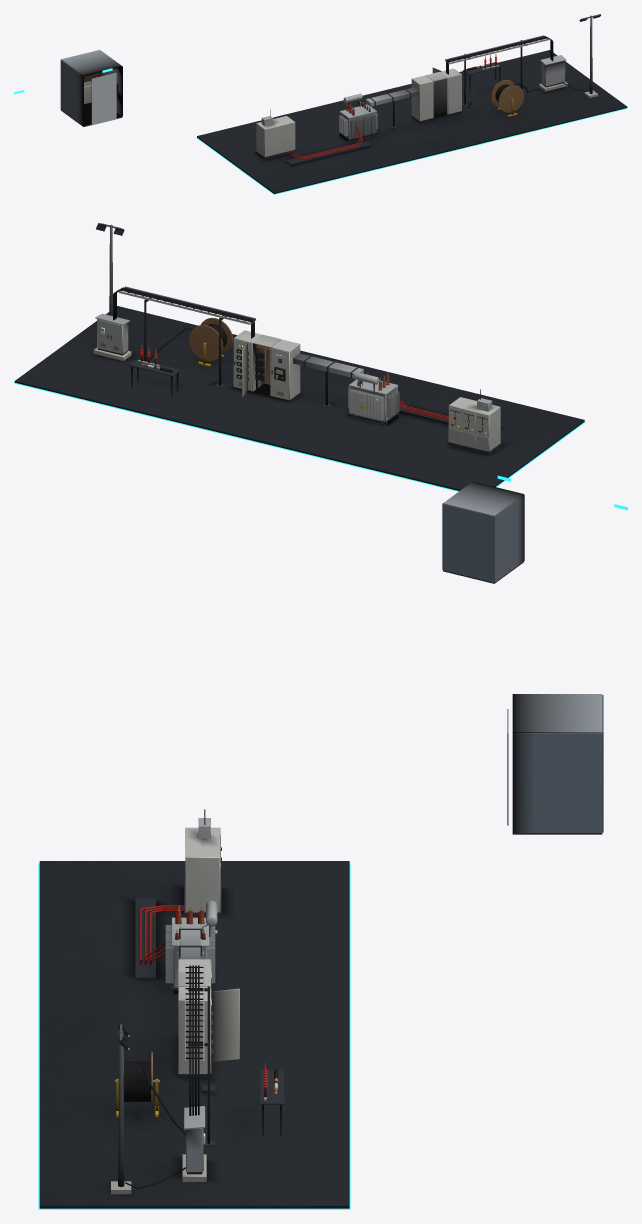
The model's file is ex_electrical.glb.
The picture shows the model from 3 angles, top to bottom: view 1: azimuth 30°, elevation 25°; view 2: azimuth 150°, elevation 25°; view 3: azimuth 270°, elevation 25°; orthographic projection. The views are drawn at different scales.
Visible parts, largest first — view 1: static.plinth, static.paint_ral, static.paint_grey, lift_cabin.steel, static.paint_dark, lift_cabin.white, static.wood, static.galv, static.cable_black, liftDoorL.steel, accent_strip.accent, liftDoorR.steel (+1 smaller); view 2: static.plinth, lift_cabin.steel, static.paint_ral, static.paint_grey, static.paint_dark, lift_cabin.white, static.wood, static.cable_black, static.galv, accent_strip.accent, static.plastic_dark; view 3: static.plinth, lift_cabin.steel, static.paint_ral, static.paint_grey, static.paint_dark, lift_cabin.white, static.cable_black, accent_strip.accent, static.galv, static.cable_red.
Part boxes in pixels (x1,y1,x2,y2): static.plinth: [197, 50, 627, 193]; static.paint_ral: [256, 67, 461, 156]; static.paint_grey: [261, 55, 566, 138]; lift_cabin.steel: [60, 60, 122, 125]; static.paint_dark: [255, 14, 600, 164]; lift_cabin.white: [61, 50, 122, 76]; static.wood: [491, 80, 524, 112]; static.galv: [445, 14, 599, 93]; static.cable_black: [446, 36, 589, 101]; liftDoorL.steel: [91, 76, 104, 125]; accent_strip.accent: [196, 107, 627, 194]; liftDoorR.steel: [104, 73, 116, 122]; static.plinth: [14, 306, 584, 490]; lift_cabin.steel: [442, 494, 524, 582]; static.paint_ral: [233, 330, 500, 451]; static.paint_grey: [95, 313, 492, 450]; static.paint_dark: [96, 223, 501, 455]; lift_cabin.white: [443, 481, 523, 516]; static.wood: [189, 317, 232, 361]; static.cable_black: [113, 287, 257, 388]; static.galv: [100, 223, 256, 366]; accent_strip.accent: [14, 382, 585, 491]; static.plastic_dark: [107, 334, 487, 432]; static.plinth: [39, 861, 349, 1208]; lift_cabin.steel: [512, 695, 603, 832]; static.paint_ral: [178, 827, 239, 1074]; static.paint_grey: [165, 818, 220, 1172]; static.paint_dark: [119, 882, 284, 1174]; lift_cabin.white: [512, 694, 602, 732]; static.cable_black: [124, 965, 278, 1188]; accent_strip.accent: [38, 863, 350, 1209]; static.galv: [118, 964, 266, 1186]; static.cable_red: [139, 905, 267, 1097].
Size of the model in its own units: 28.32 by 4.48 by 13.85.
